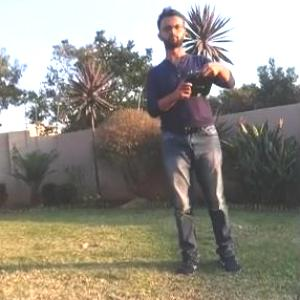follow: (142, 1, 246, 278)
